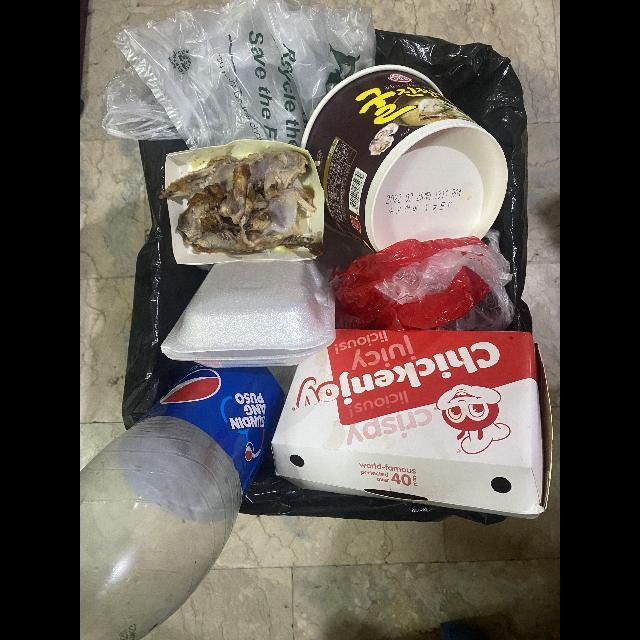biowaste: (159, 152, 325, 257)
paper: (270, 330, 552, 520), (301, 65, 508, 253)
plastic: (80, 365, 296, 640), (101, 0, 377, 150), (329, 229, 515, 331)
styrofoam: (161, 260, 336, 368)
